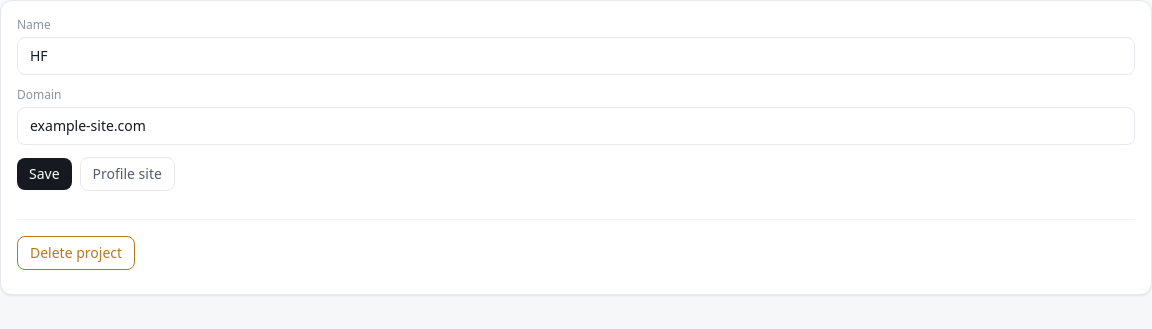
Scenario: ProjectEditForm › shows an inline error and does not refresh when the PATCH fails
Click the button "Save": (44, 174) [17,158,72,190]
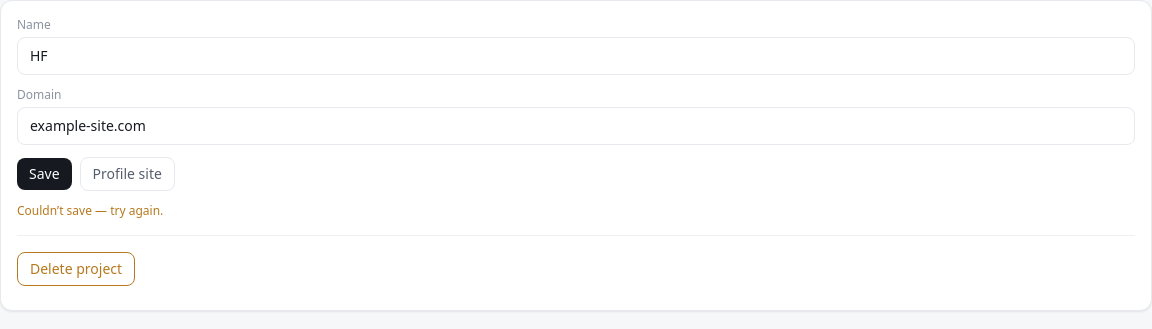
Check: the text "Couldn’t save — try again." is shown, box [17,202,163,219]
